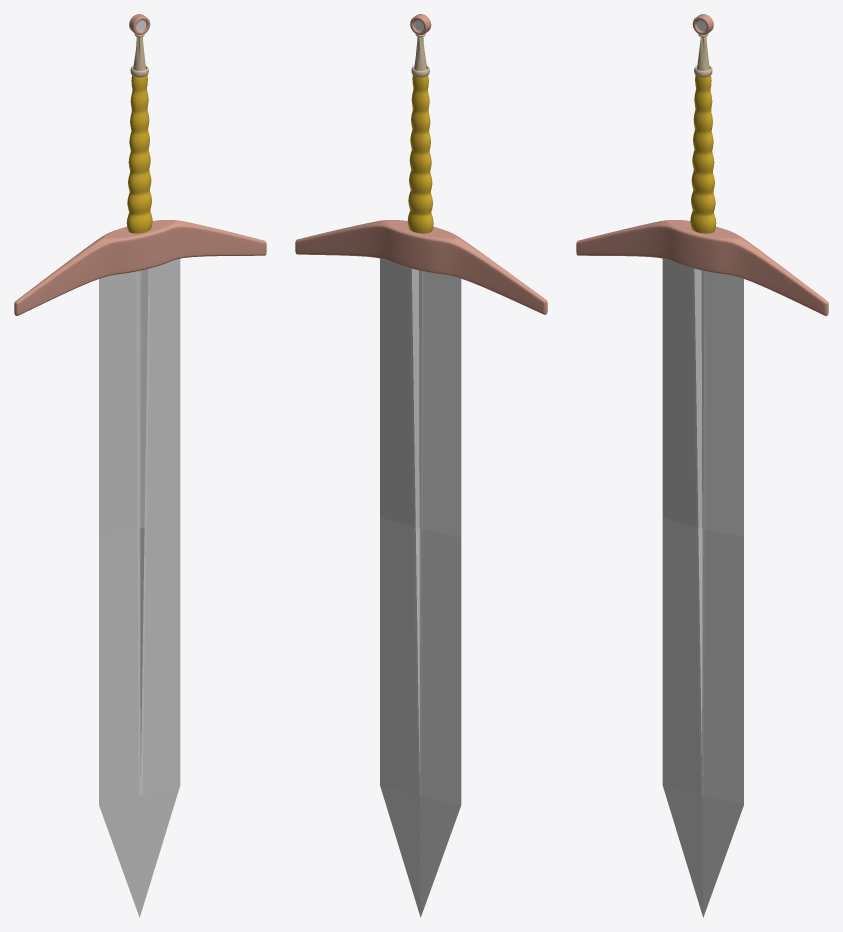
Rendered from sword_fb0291f7.glb.
3 renders of one model, left to right at view 1: azimuth 30°, elevation 25°; view 2: azimuth 150°, elevation 25°; view 3: azimuth 330°, elevation 25°, orthographic.
Visible parts, largest first — view 1: Cube, Cylinder, Cylinder.001; view 2: Cube, Cylinder, Cylinder.001; view 3: Cube, Cylinder, Cylinder.001.
Part boxes in pixels (x1,y1,x2,y2): Cube: [99, 259, 180, 917]; Cylinder: [14, 220, 266, 315]; Cylinder.001: [126, 75, 152, 233]; Cube: [380, 258, 461, 917]; Cylinder: [295, 220, 547, 314]; Cylinder.001: [407, 75, 433, 233]; Cube: [662, 259, 743, 917]; Cylinder: [576, 220, 828, 315]; Cylinder.001: [690, 75, 716, 233].
Bounding box in the file's own units: 212 × 728 × 21.47.
